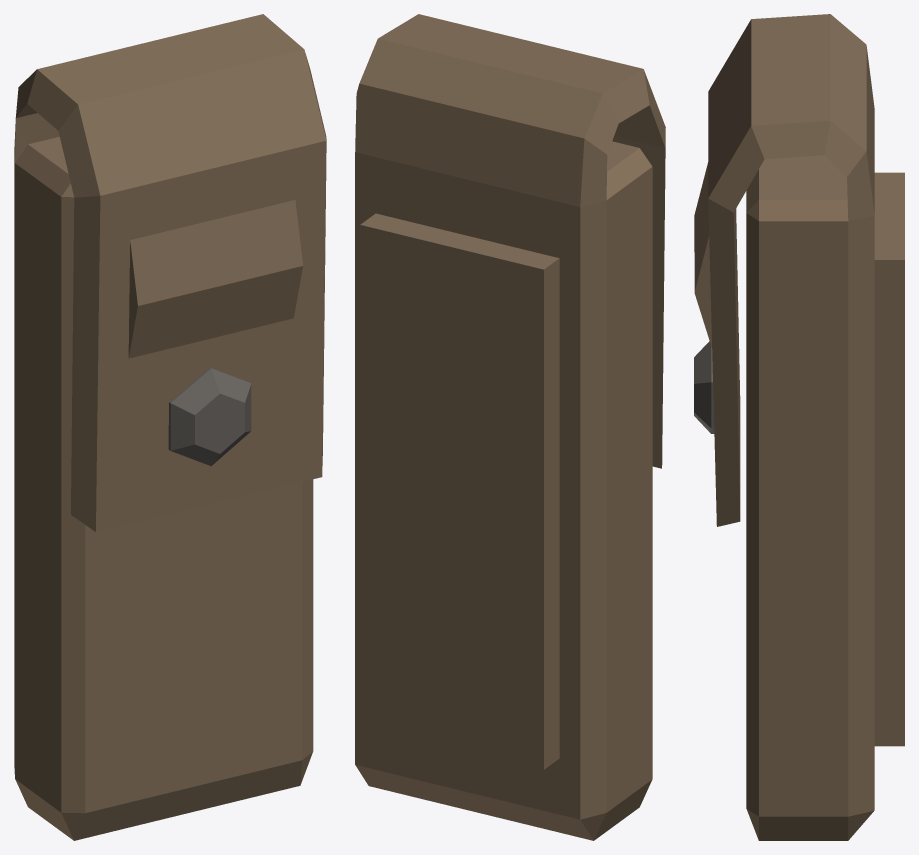
The model's file is Pouch_10_SM.FBX.
3 renders of one model, left to right at view 1: azimuth 30°, elevation 25°; view 2: azimuth 150°, elevation 25°; view 3: azimuth 270°, elevation 25°, orthographic. The views are drawn at different scales.
Parts seen in each view (by area): view 1: Pouch_10_SM; view 2: Pouch_10_SM; view 3: Pouch_10_SM.
Boxes of the visible parts, bbox=[...] form: Pouch_10_SM: bbox=[14, 14, 326, 840]; Pouch_10_SM: bbox=[355, 14, 665, 840]; Pouch_10_SM: bbox=[694, 14, 904, 840].
Size of what is drawn, in the model's own units: 4.64 by 3.48 by 13.11.
